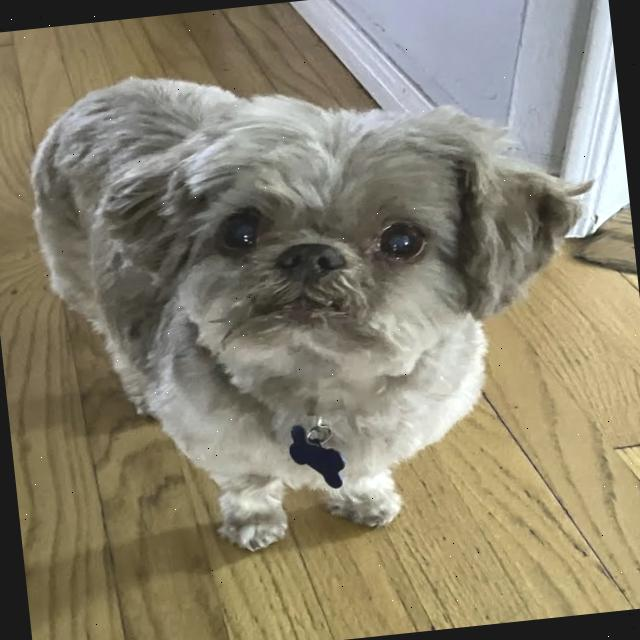shih_tzu_dog: (82, 66, 598, 418)
